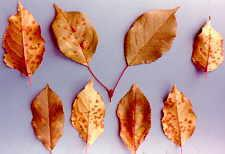Apple Scab Leaf: (122, 4, 193, 74), (50, 5, 102, 77), (3, 3, 45, 82), (114, 78, 155, 154), (159, 77, 198, 154), (70, 80, 108, 154), (30, 84, 67, 154), (188, 16, 225, 75)
